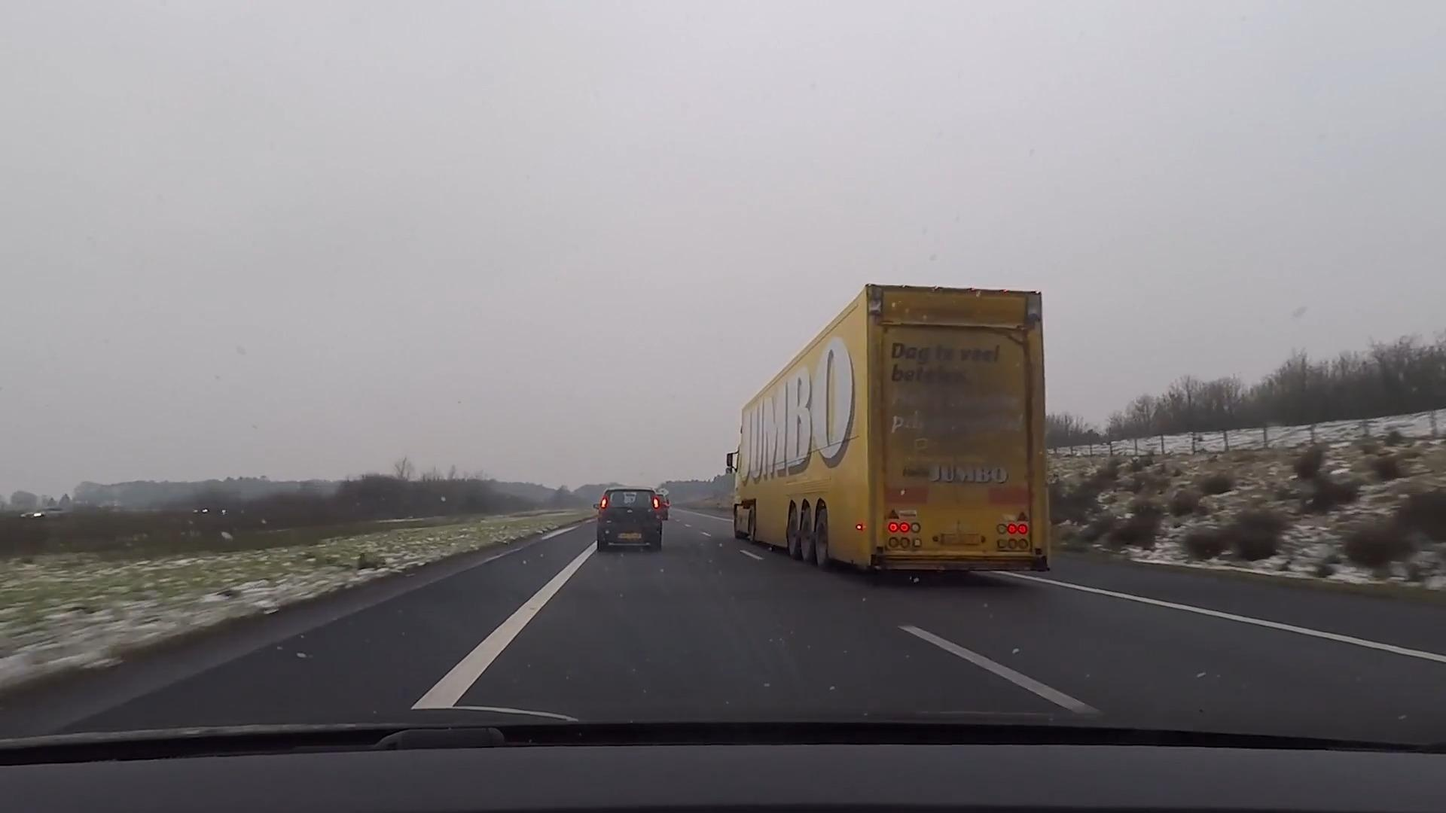Ice: (0, 505, 1446, 737)
Snow: (0, 510, 593, 692), (1048, 409, 1446, 591)
